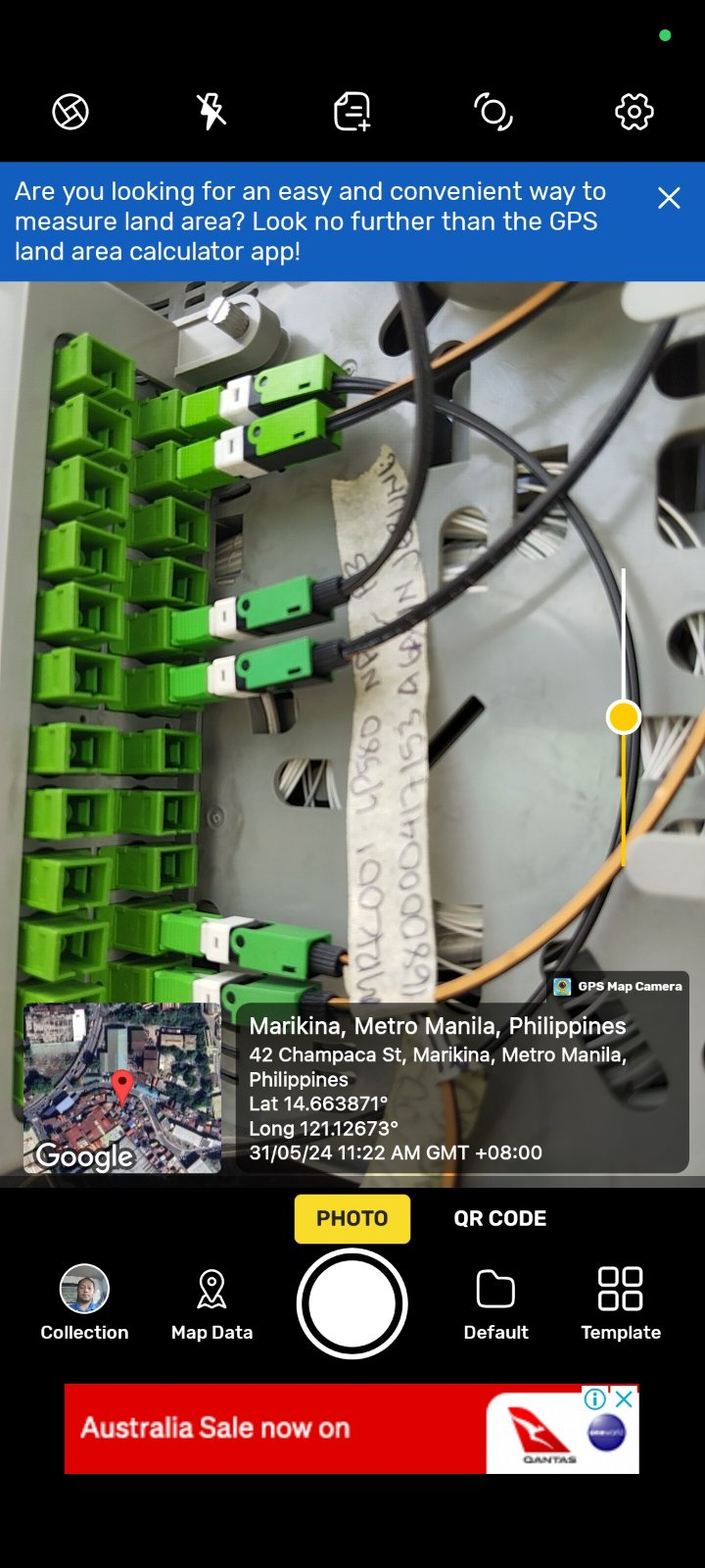no dust cap: (149, 1027, 215, 1098), (29, 1048, 97, 1108), (40, 988, 102, 1049), (72, 520, 126, 581), (87, 336, 134, 396), (57, 859, 110, 912), (55, 923, 108, 976), (73, 583, 122, 640), (85, 394, 130, 456), (79, 458, 128, 513), (67, 726, 116, 776), (64, 791, 114, 839), (68, 651, 116, 700), (167, 559, 211, 609), (156, 790, 202, 836), (155, 847, 198, 892), (158, 731, 201, 775), (173, 499, 211, 548)
occupied: (153, 968, 364, 1061), (168, 564, 363, 648), (161, 912, 364, 991), (175, 392, 349, 484), (168, 630, 368, 702), (179, 351, 354, 426)
